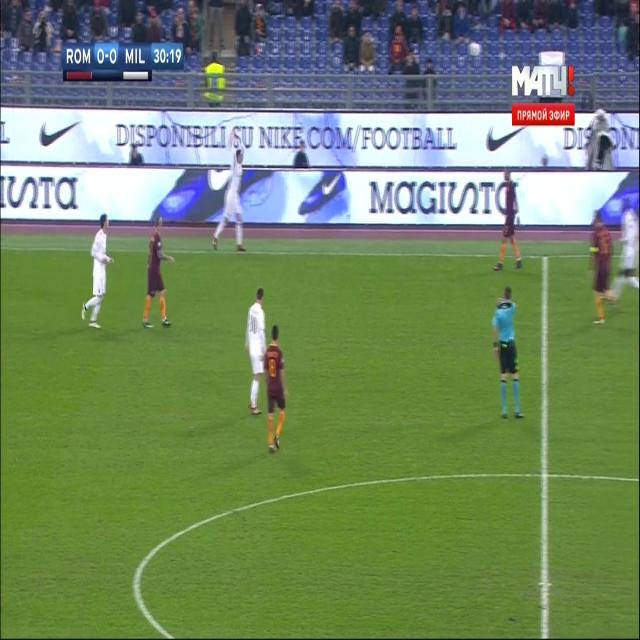Player: (140, 213, 176, 334), (211, 140, 248, 253), (80, 213, 115, 329), (491, 165, 524, 274), (242, 285, 268, 416), (263, 324, 288, 453), (587, 209, 614, 328), (612, 197, 640, 306)
Referee: (489, 284, 527, 426)
